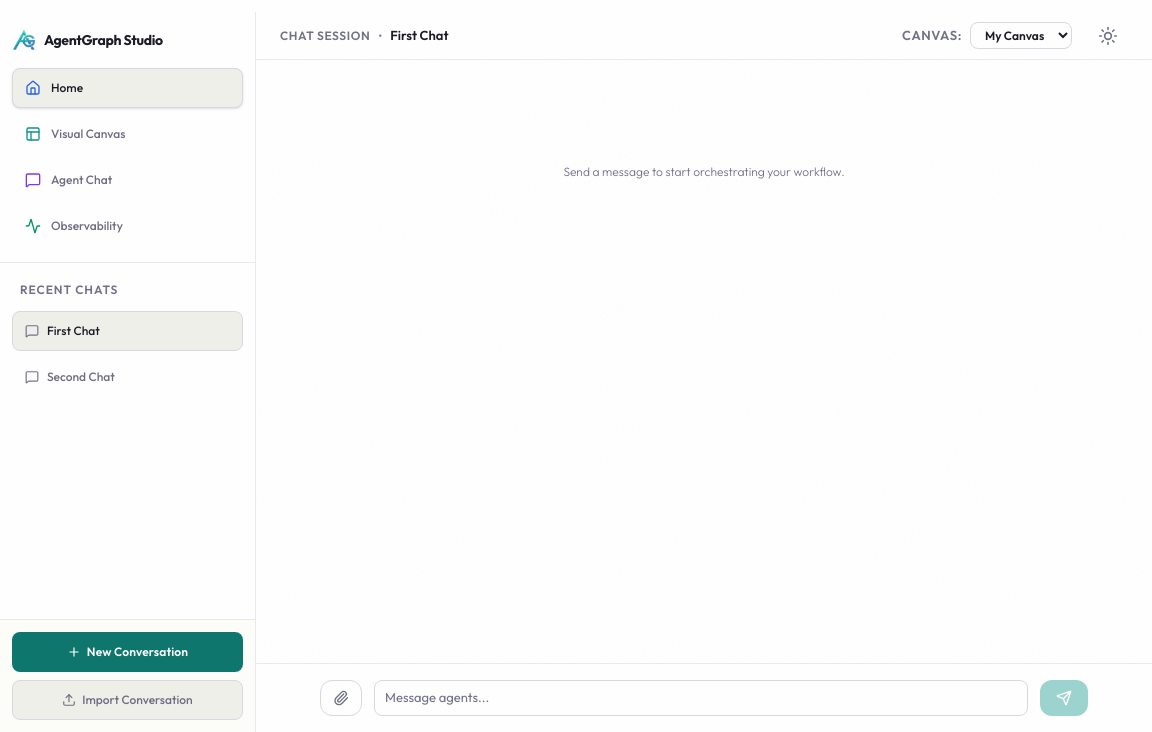
ChatPage component › closes active websocket and resets state when switching conversations
Start execution to open websocket
Type "start run" into the field with test id "chat-input" at coordinates (701, 698), box [374, 680, 1028, 716]
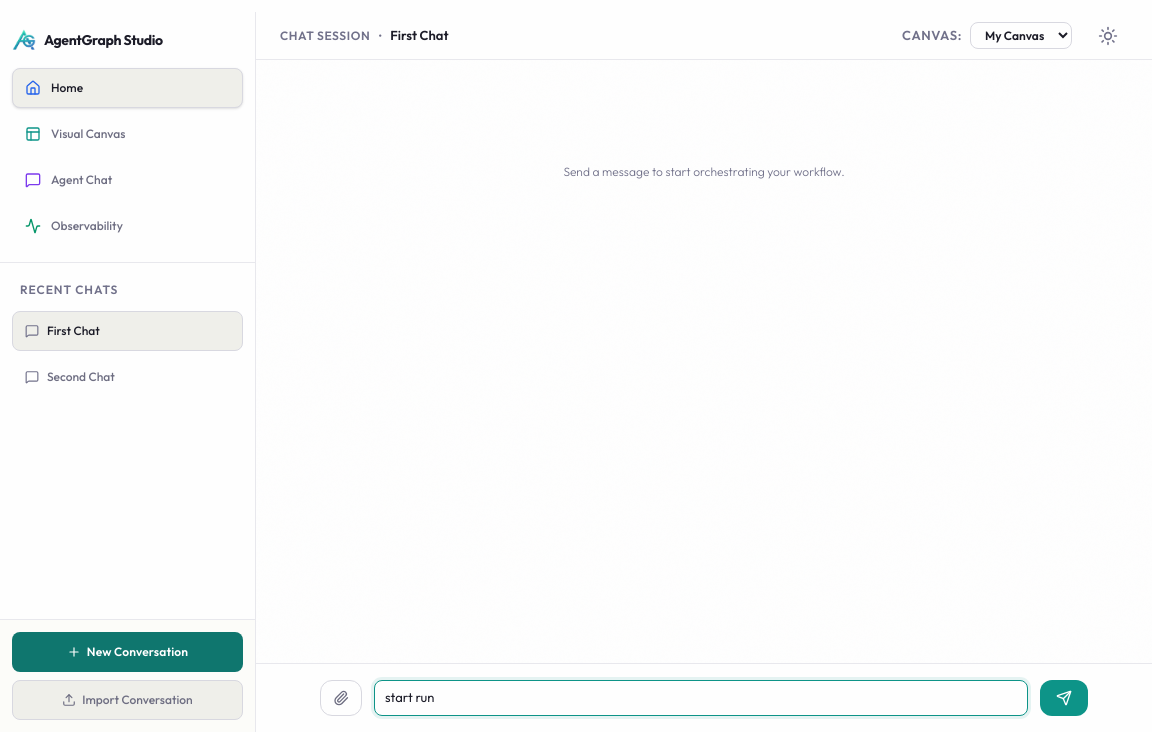
Click the button with test id "send-button" at coordinates (1064, 698), box [1040, 680, 1088, 716]
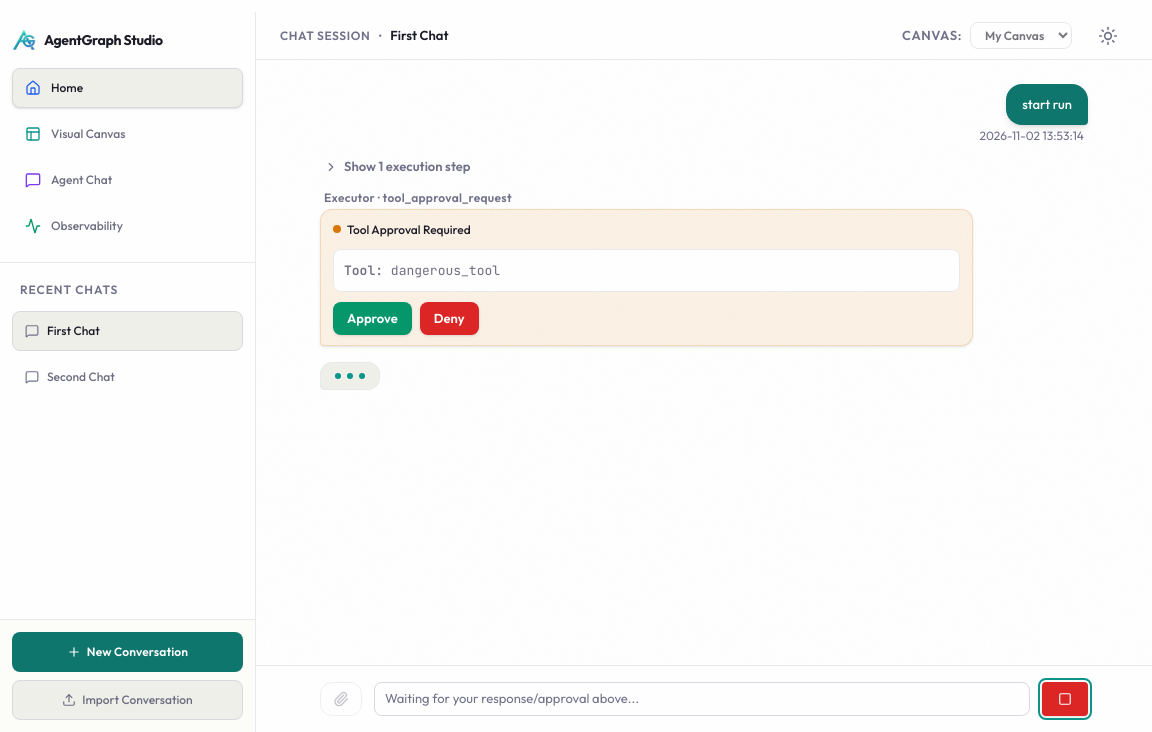
Expected: the text "Tool: dangerous_tool" is shown, [344, 262, 500, 279]
Click the Second Chat link in the sidebar to navigate to conv-2
Click the text "Second Chat" at coordinates (81, 377), box [47, 369, 115, 385]
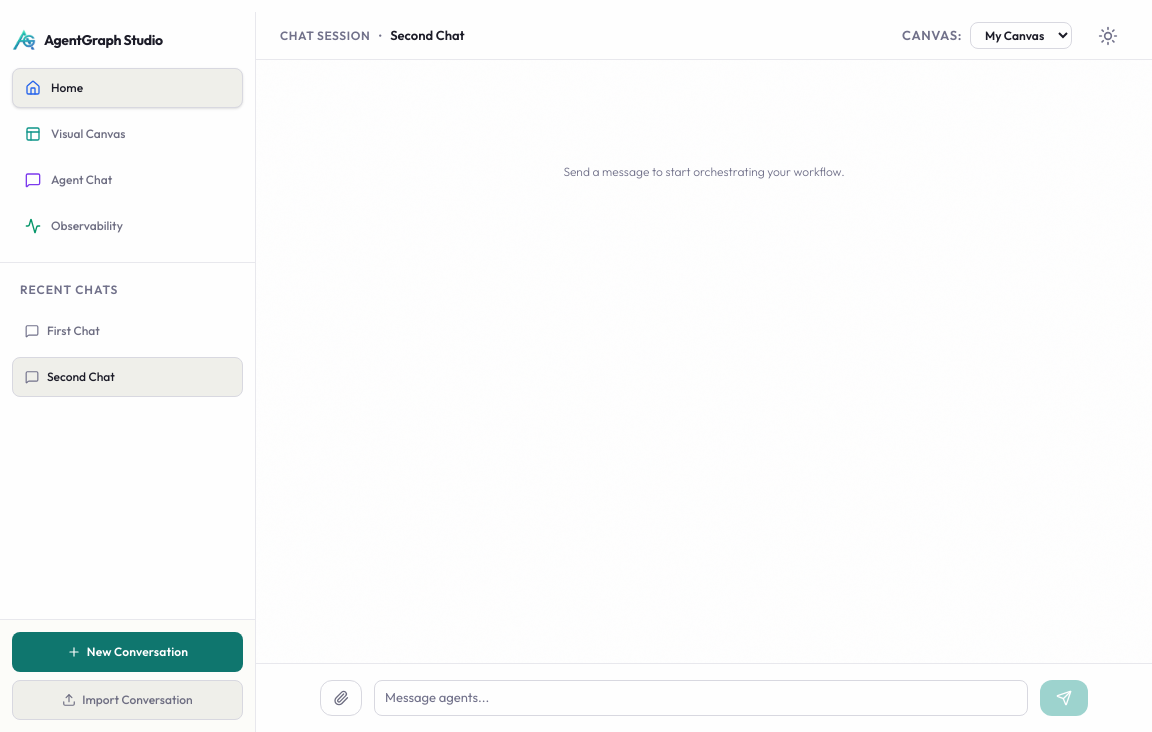
Expected: the text "dangerous_tool" is gone
